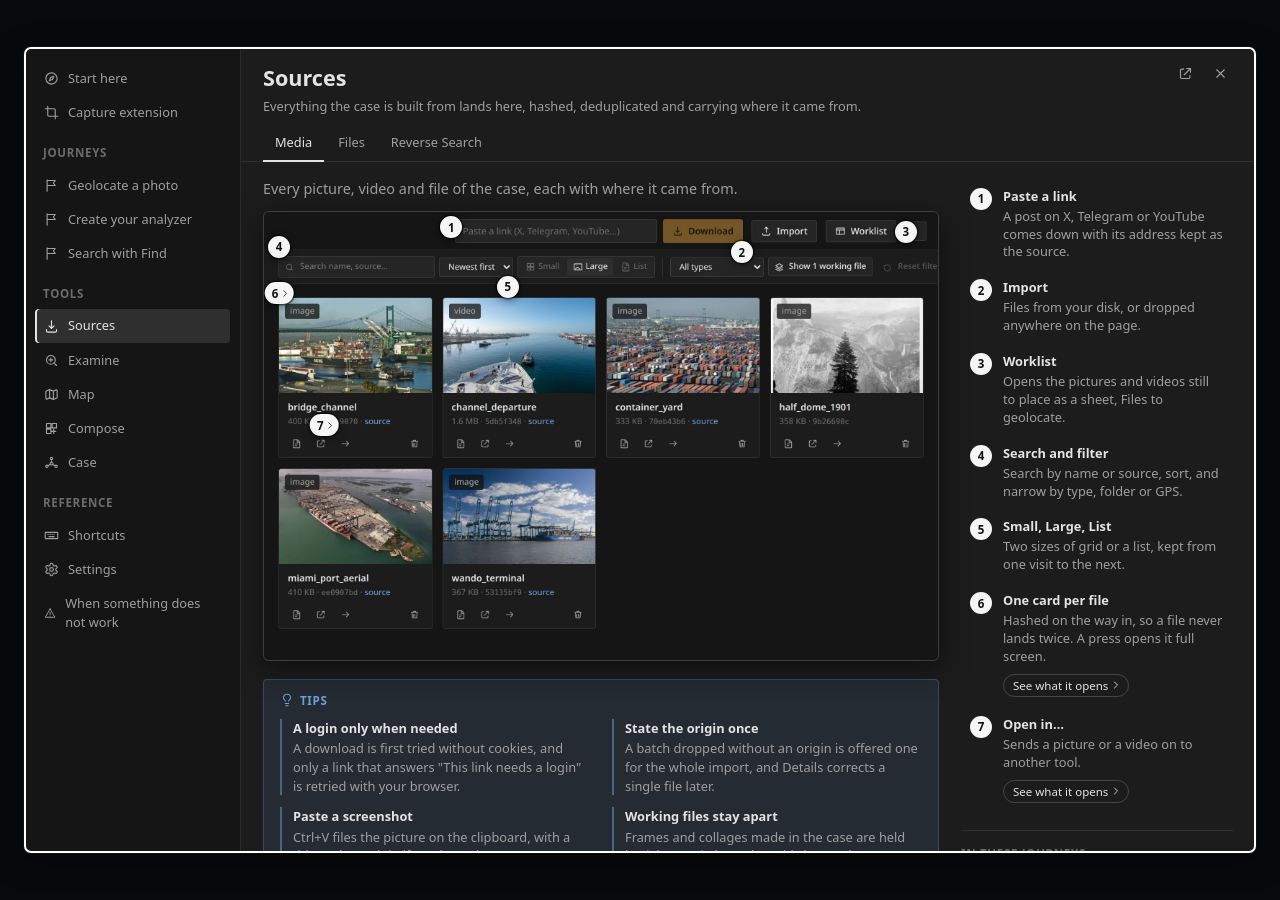
Test case: a number that leads somewhere › shows the screen its control opens, with the way back
The width and height of the screenshot is (1280, 900).
Click the button "7": {"x": 324, "y": 426} left=310, top=414, right=338, bottom=436
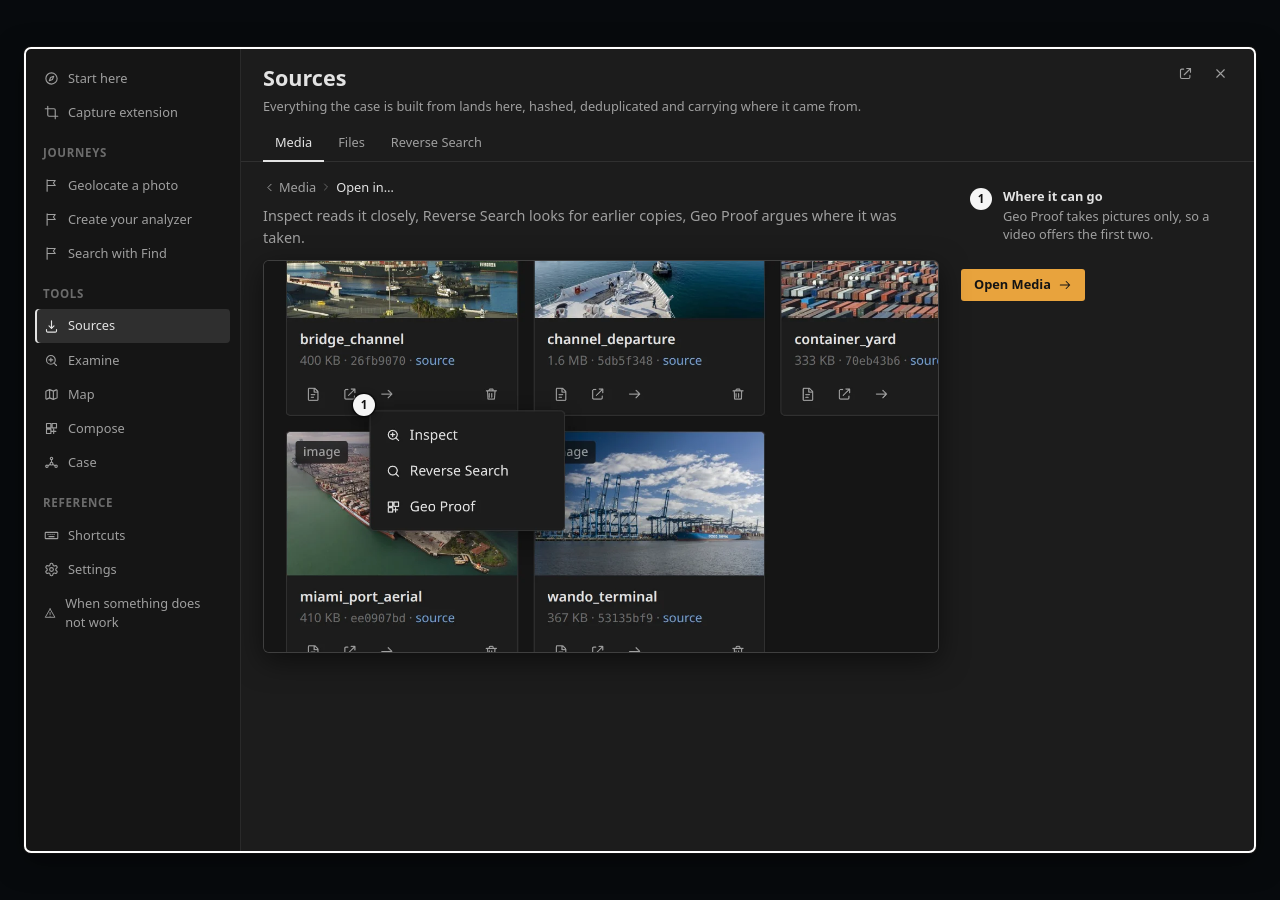
Check: the navigation bar with class "trail" shows "Open in…", box left=336, top=178, right=394, bottom=196
Check: the text with class "lead" shows "Inspect reads it closely, Reverse Search looks for earlier copies, Geo Proof argues where it was taken.", box left=263, top=206, right=897, bottom=247
Click the button "Media" next to "Open in…": {"x": 290, "y": 187} left=263, top=178, right=316, bottom=197
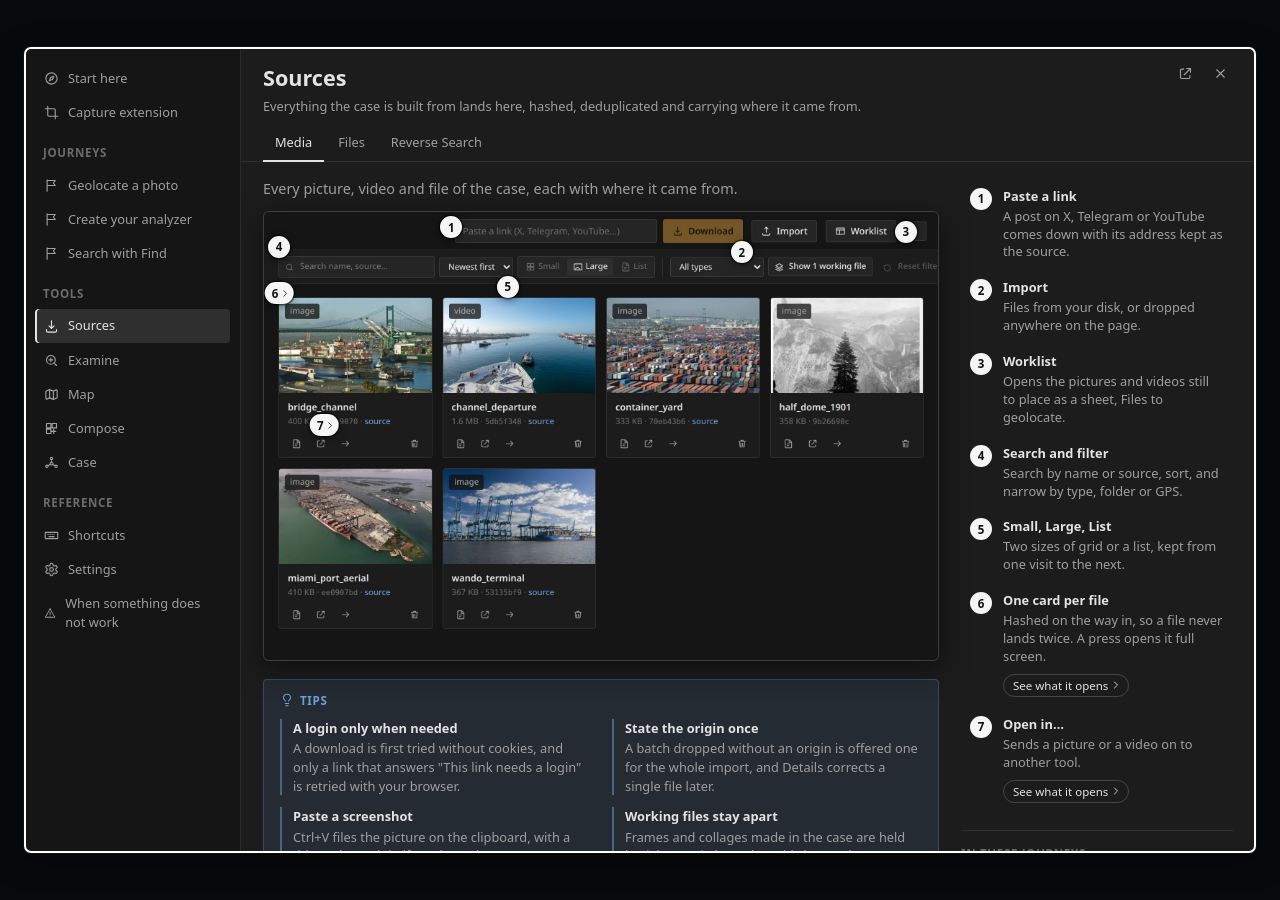
Check: the navigation bar with class "trail" is gone
